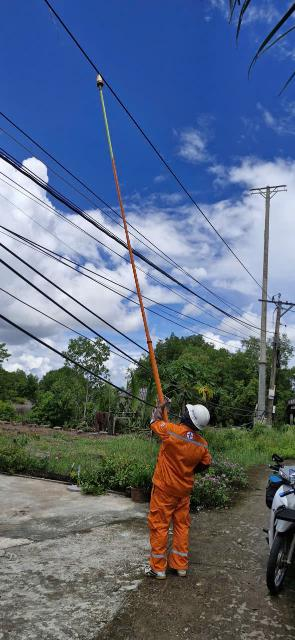gloves: (148, 391, 172, 426)
helmet: (183, 399, 214, 433)
shoes: (133, 561, 167, 584), (175, 561, 190, 583)
